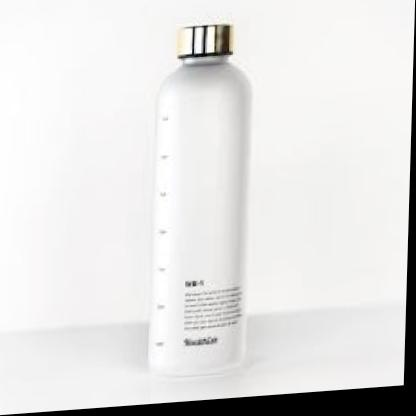trash: (148, 24, 250, 375)
